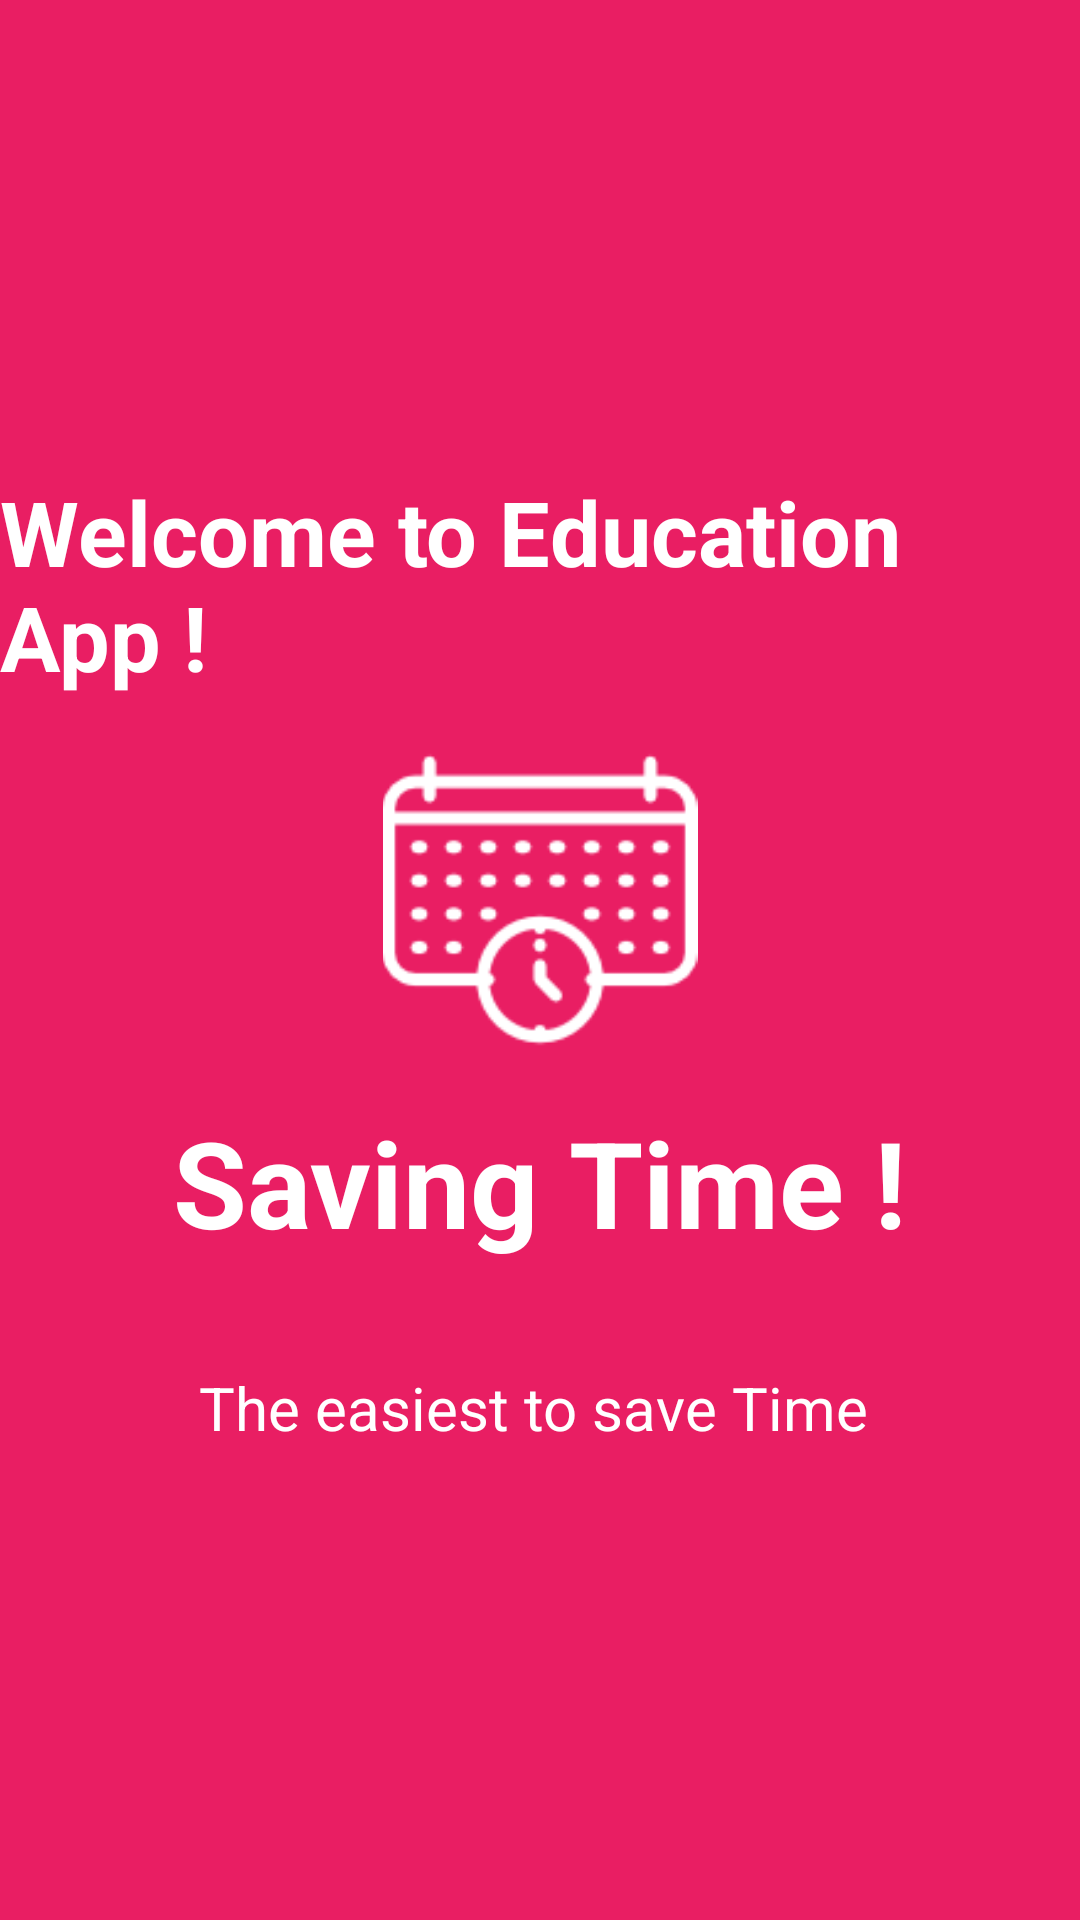

Point at icon controls on the screen. Image size 1080 x 1920, points as (x=x, y=y).
calendar: (x=540, y=900)
